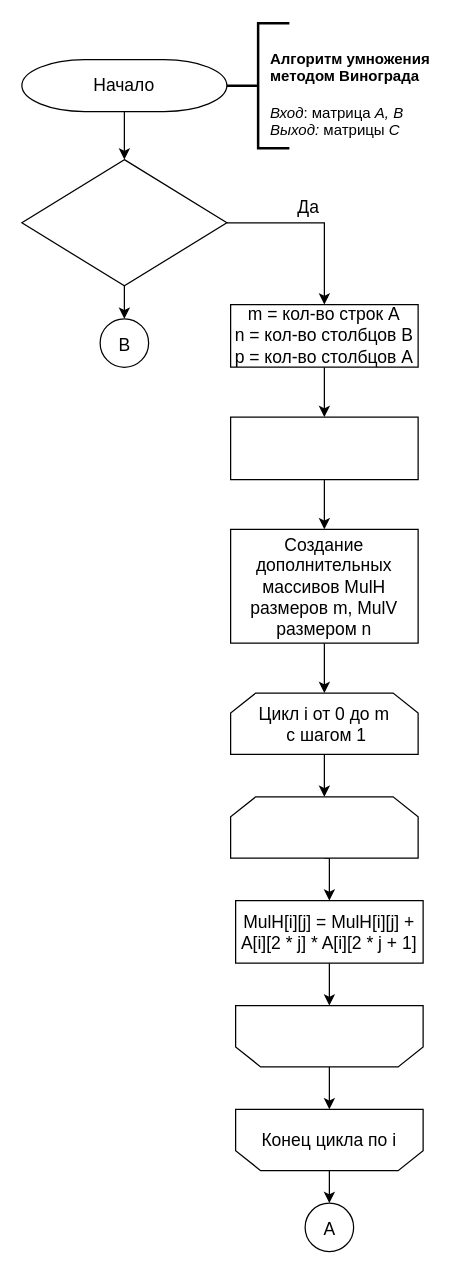
This 473x1274 diagram has some shape labels left out. The shapes that lost their labels are listed below. From the top down, each one's centre as x and y in pixels, then its label:
pixel 124 222: Кол-во столбцов A == кол-ву строк B
pixel 323 448: Создание матрицы С размеров m×n
pixel 323 827: Цикл j от 0 до p / 2 с шагом 1
pixel 328 1035: Конец цикла по j
